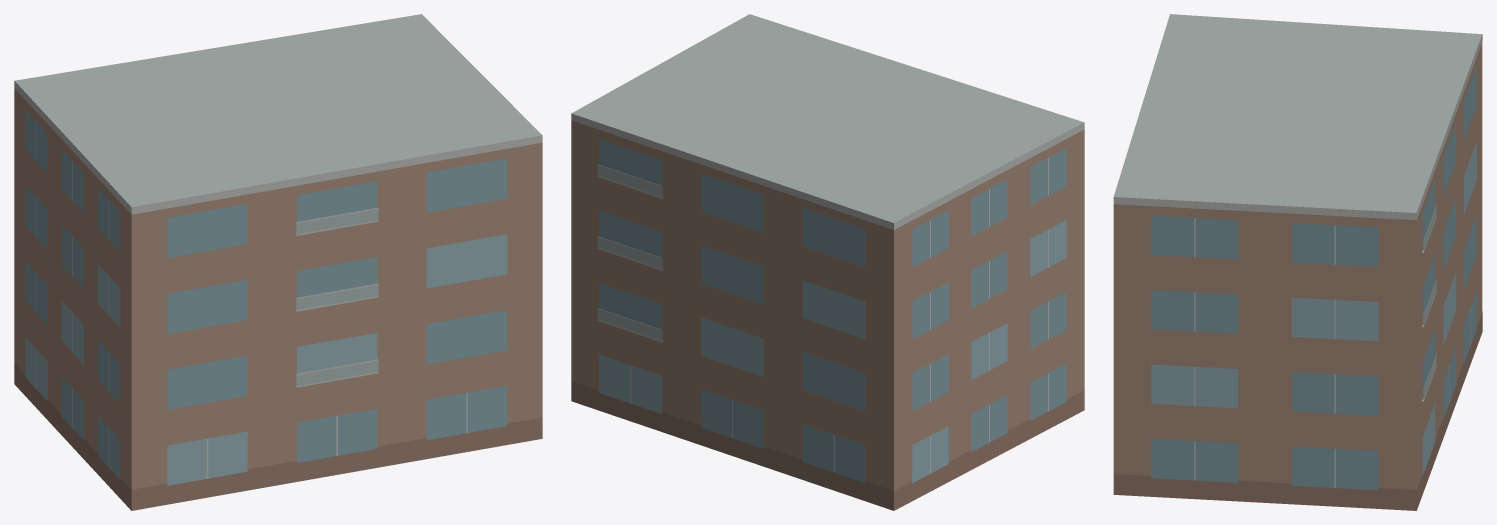
Rendered from survey-upis-32908631.glb.
The picture shows the model from 3 angles, left to right: view 1: azimuth 30°, elevation 25°; view 2: azimuth 150°, elevation 25°; view 3: azimuth 270°, elevation 25°; orthographic projection. The views are drawn at different scales.
Parts seen in each view (by area): view 1: survey-upis-32908631.tmp; view 2: survey-upis-32908631.tmp; view 3: survey-upis-32908631.tmp.
Part boxes in pixels (x1,y1,x2,y2): survey-upis-32908631.tmp: [14, 14, 542, 510]; survey-upis-32908631.tmp: [571, 14, 1084, 510]; survey-upis-32908631.tmp: [1113, 14, 1482, 510].
Size of the model in its own units: 14.49 by 10.1 by 11.35.
